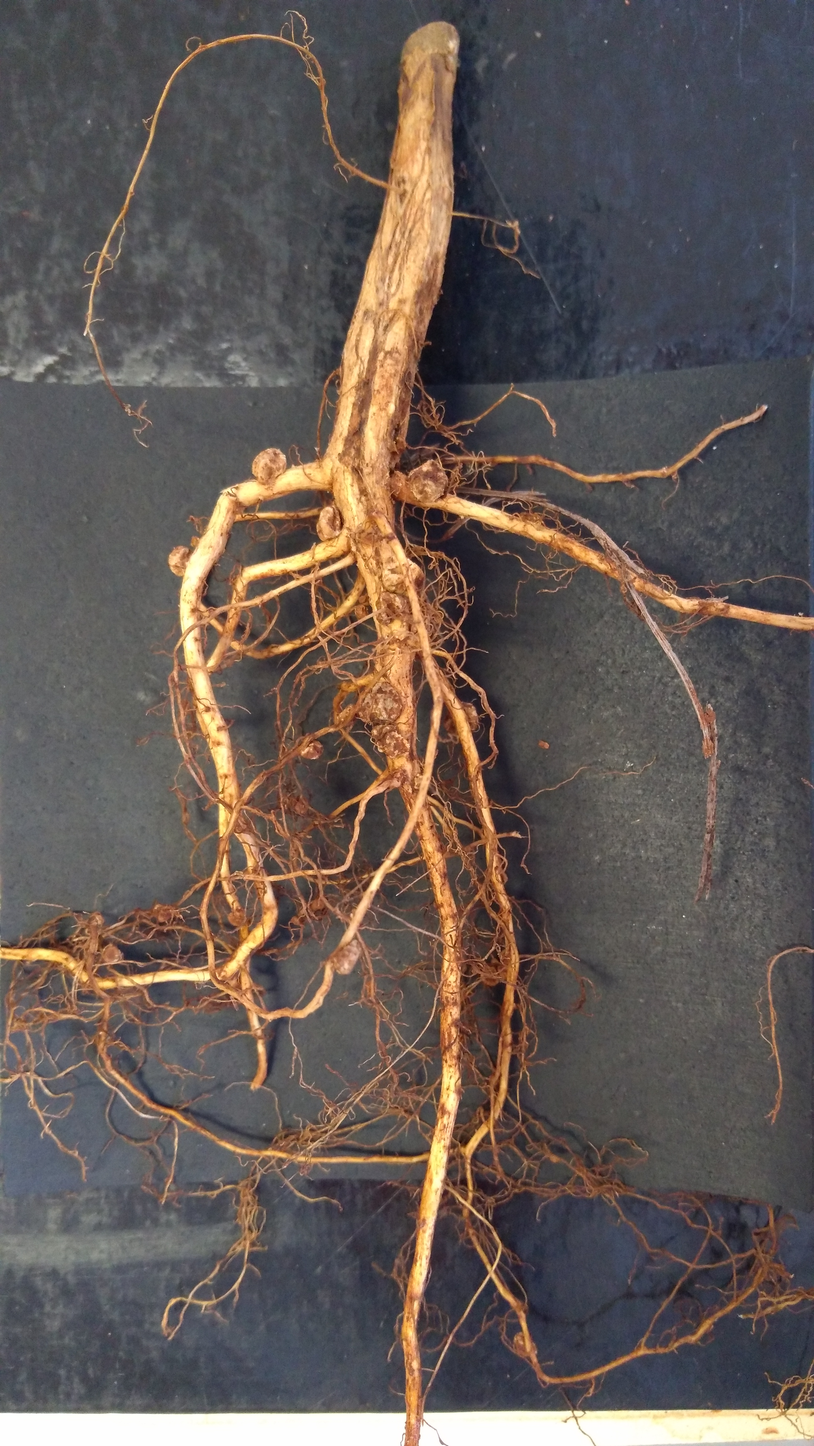nodule: (406, 457, 451, 509), (356, 679, 405, 726), (380, 557, 427, 598), (249, 444, 291, 485), (369, 723, 412, 761), (312, 502, 347, 542), (443, 699, 481, 735), (333, 938, 364, 975), (166, 544, 192, 578), (374, 590, 407, 615), (512, 1330, 540, 1357), (300, 738, 327, 763), (152, 902, 178, 923), (102, 942, 125, 965), (226, 910, 250, 928), (480, 965, 499, 987), (308, 896, 328, 916), (373, 609, 393, 627), (392, 769, 408, 790), (294, 796, 310, 817), (352, 605, 371, 621), (411, 773, 426, 789), (87, 911, 102, 926), (189, 534, 203, 547), (354, 593, 369, 604)
